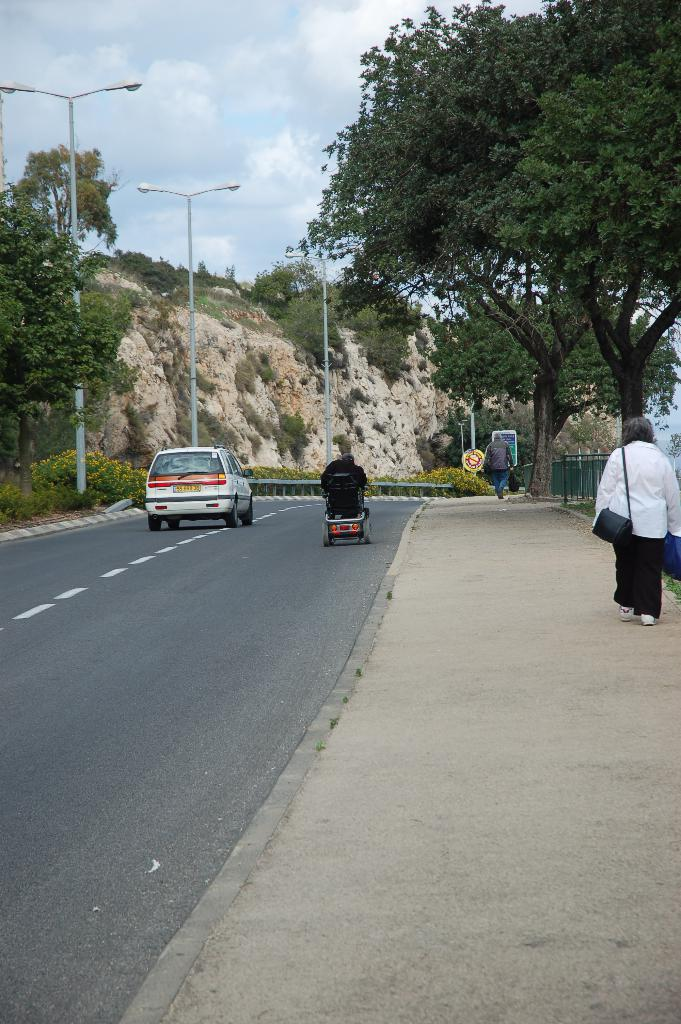car: (125, 428, 261, 549)
